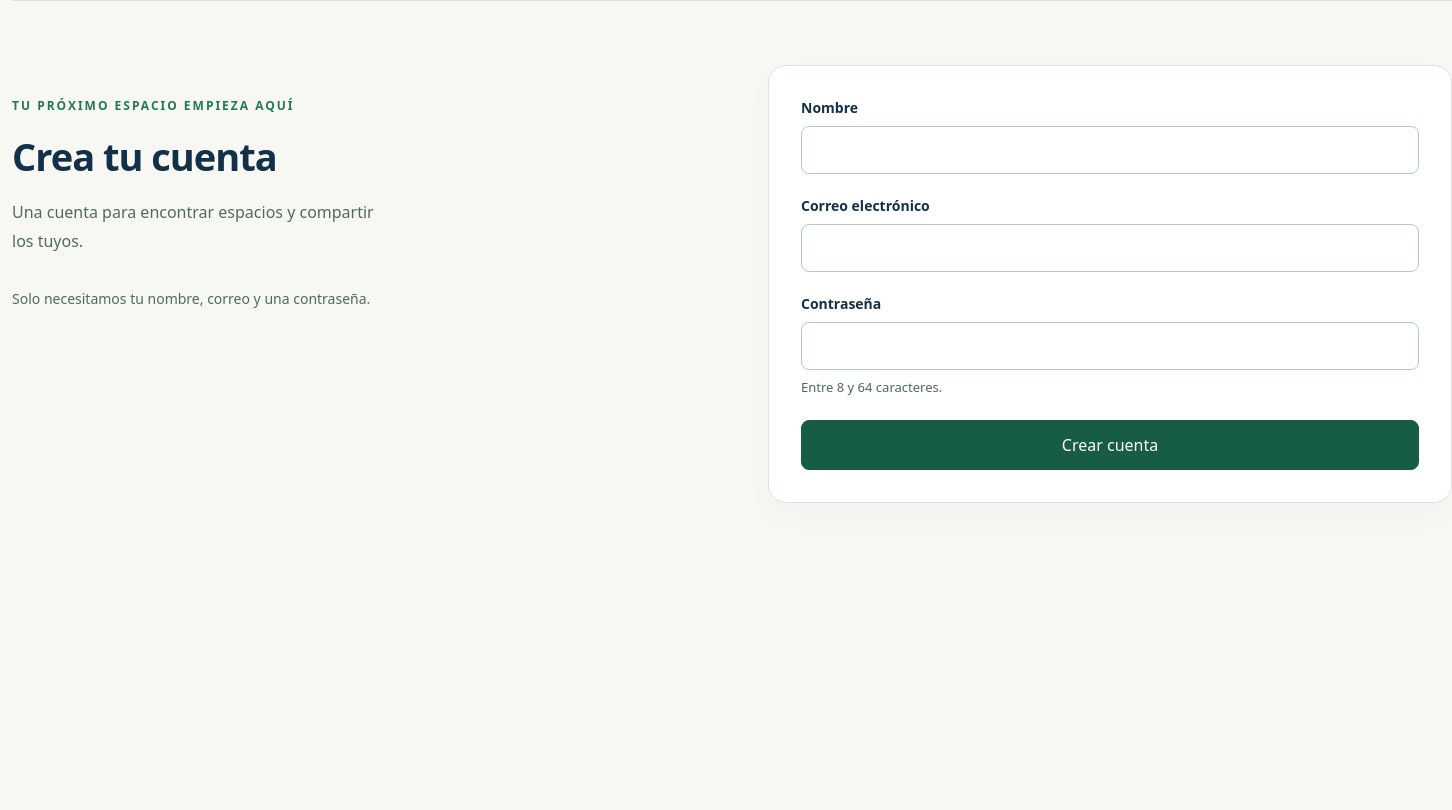
Test: CP-08: conserva los datos tras el error de red y permite reintentar
Type "Jorge Aceval" into the field labelled "Nombre". click: [1110, 150]
box: [801, 126, 1419, 174]
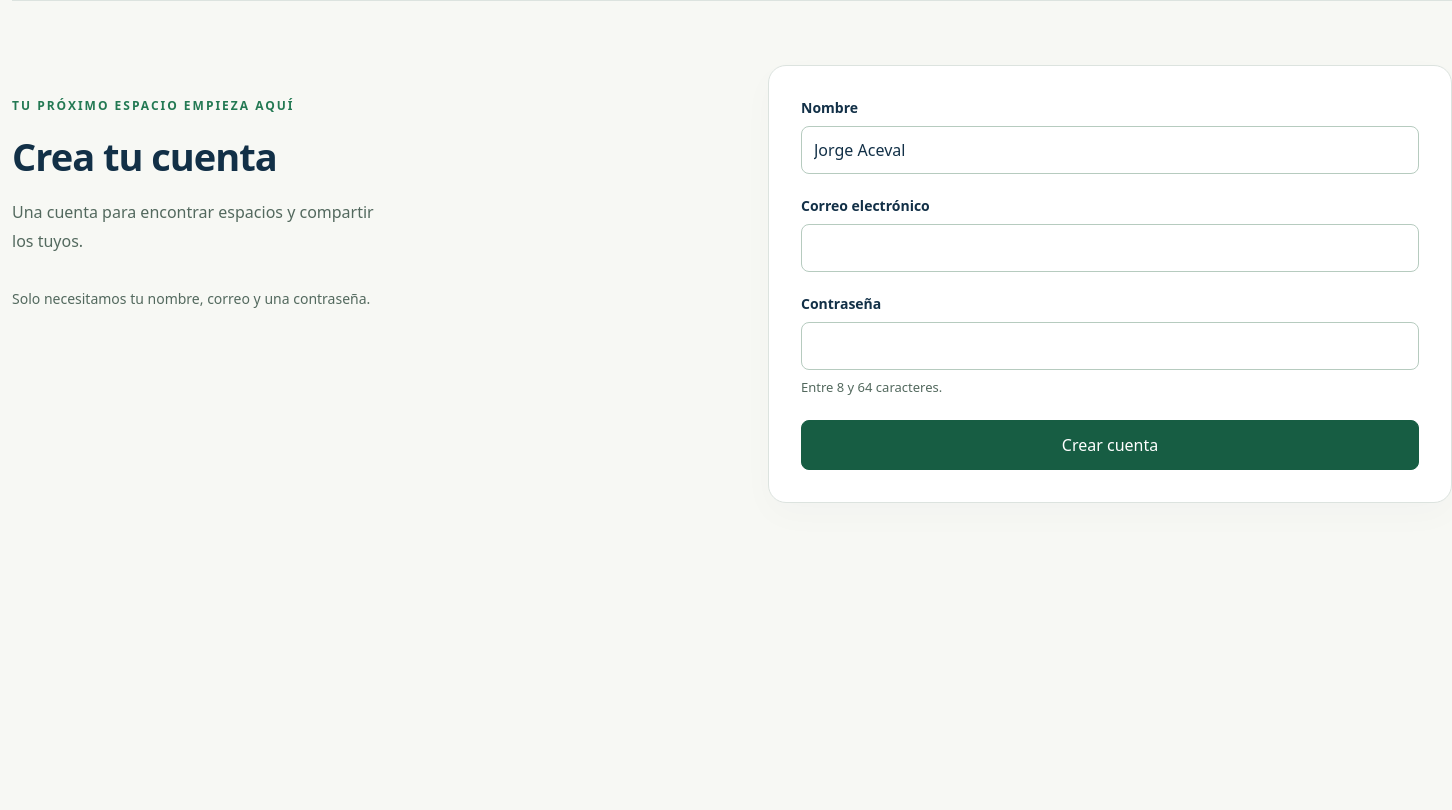
Type "jorge@example.com" into the field labelled "Correo electrónico". click: [1110, 248]
box: [801, 224, 1419, 272]
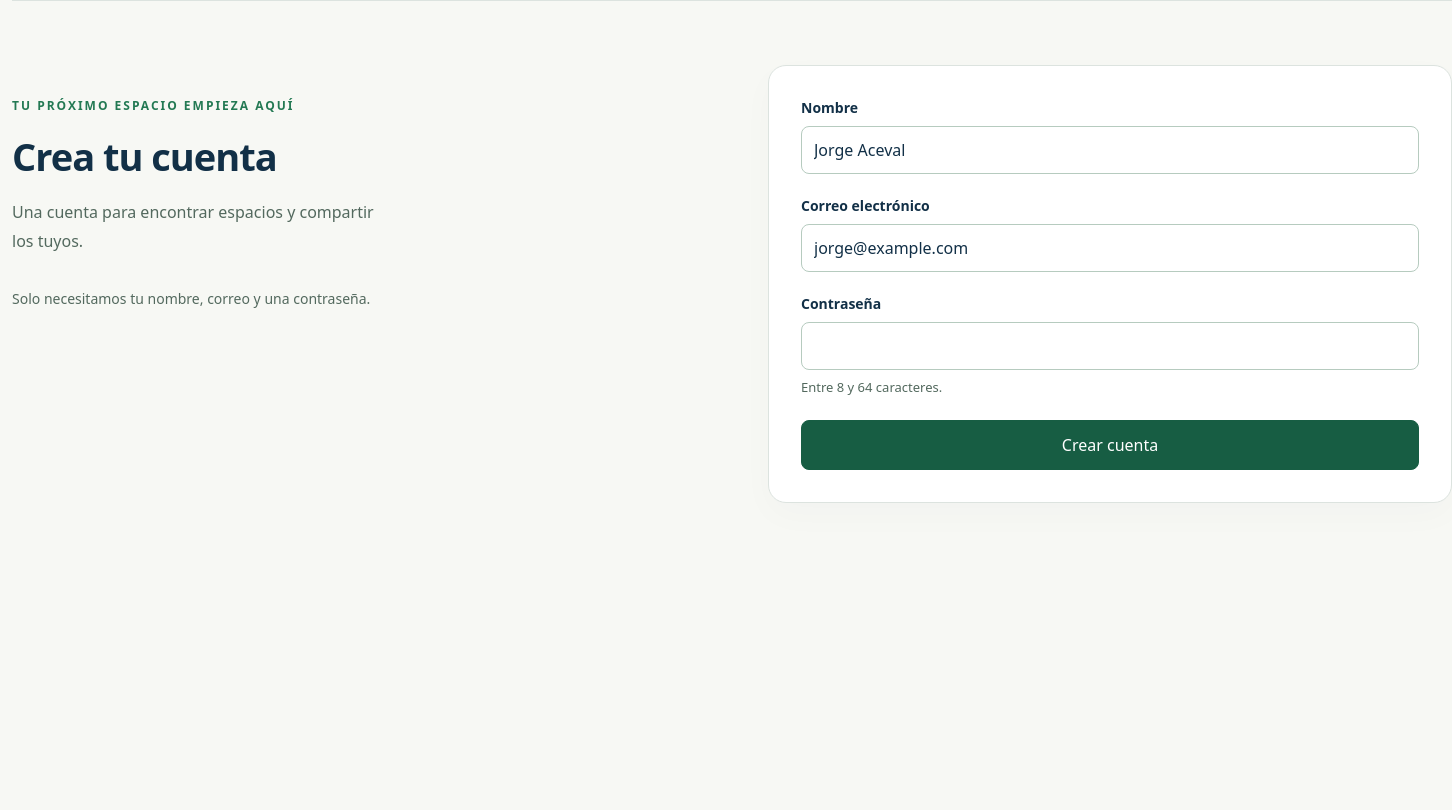
Type "Clave de prueba 2026!" into the password field labelled "Contraseña". click: [1110, 346]
box: [801, 322, 1419, 370]
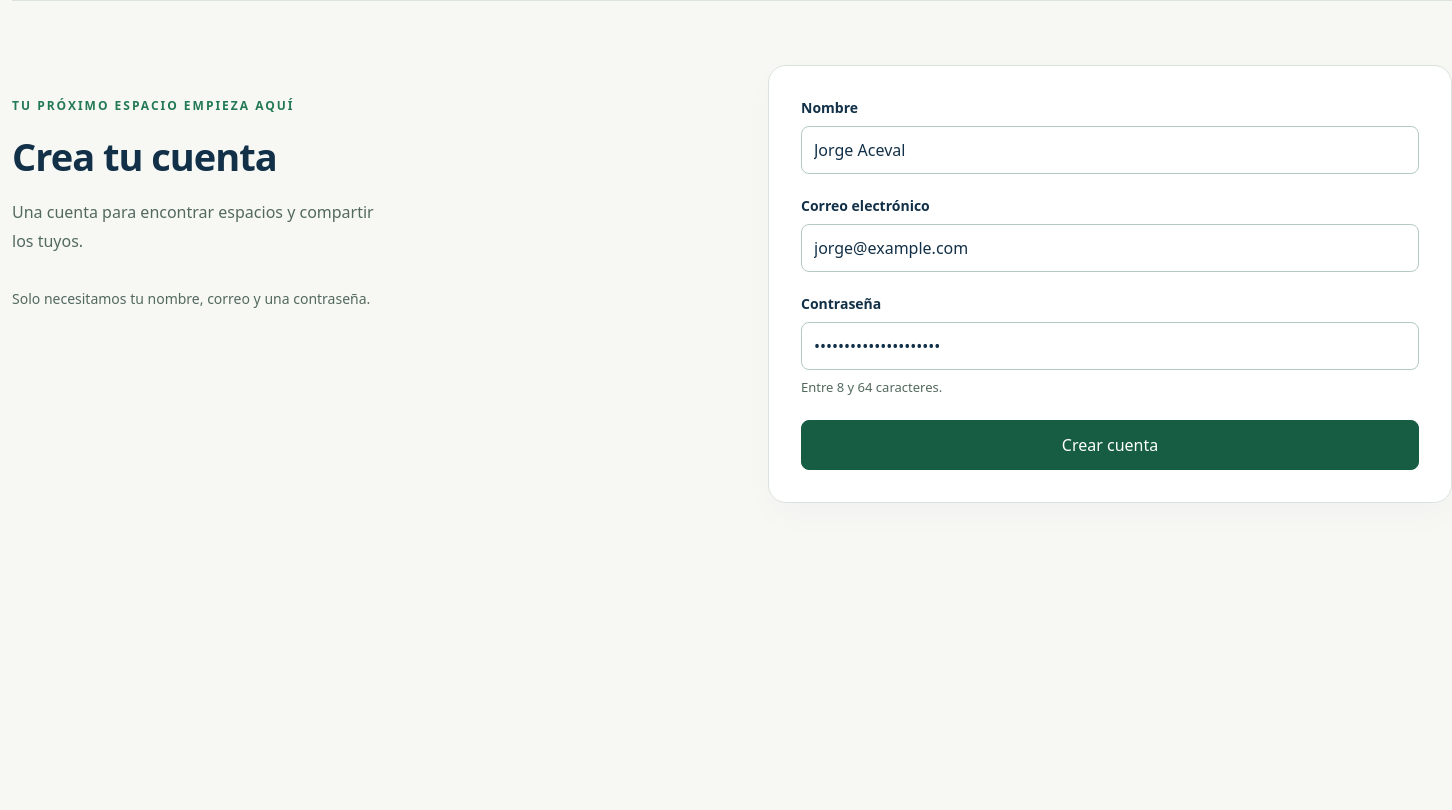
Click the button "Crear cuenta". click: [1110, 444]
box: [801, 420, 1419, 470]
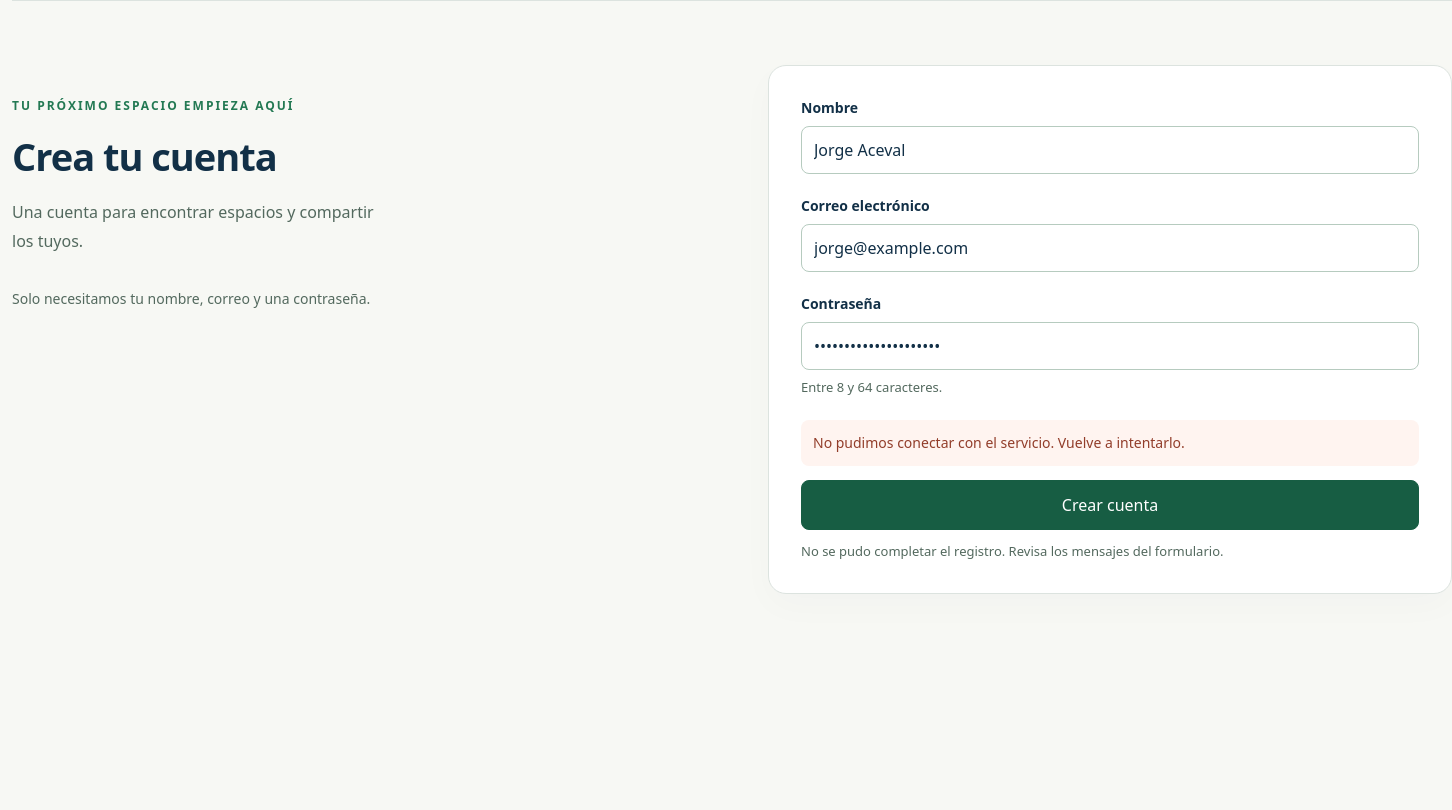
Expected: the text "Tu cuenta fue creada." is not shown
Now the message "No pudimos conectar con el servicio. Vuelve a intentarlo." is shown, box [801, 420, 1419, 466]
Click the button "Crear cuenta". click: [1110, 505]
box: [801, 480, 1419, 530]
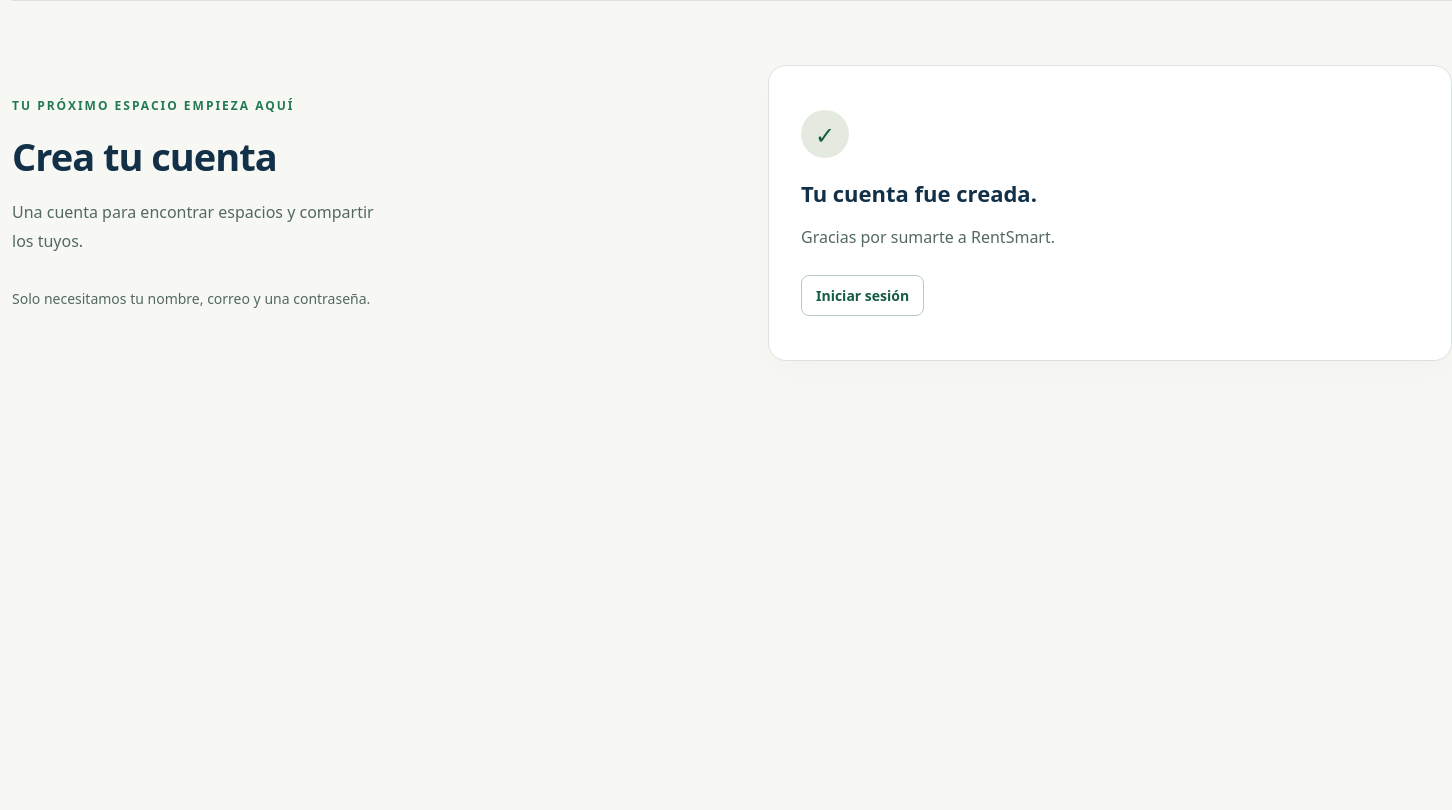
Now the heading "Tu cuenta fue creada." is shown, box [801, 178, 1037, 208]
